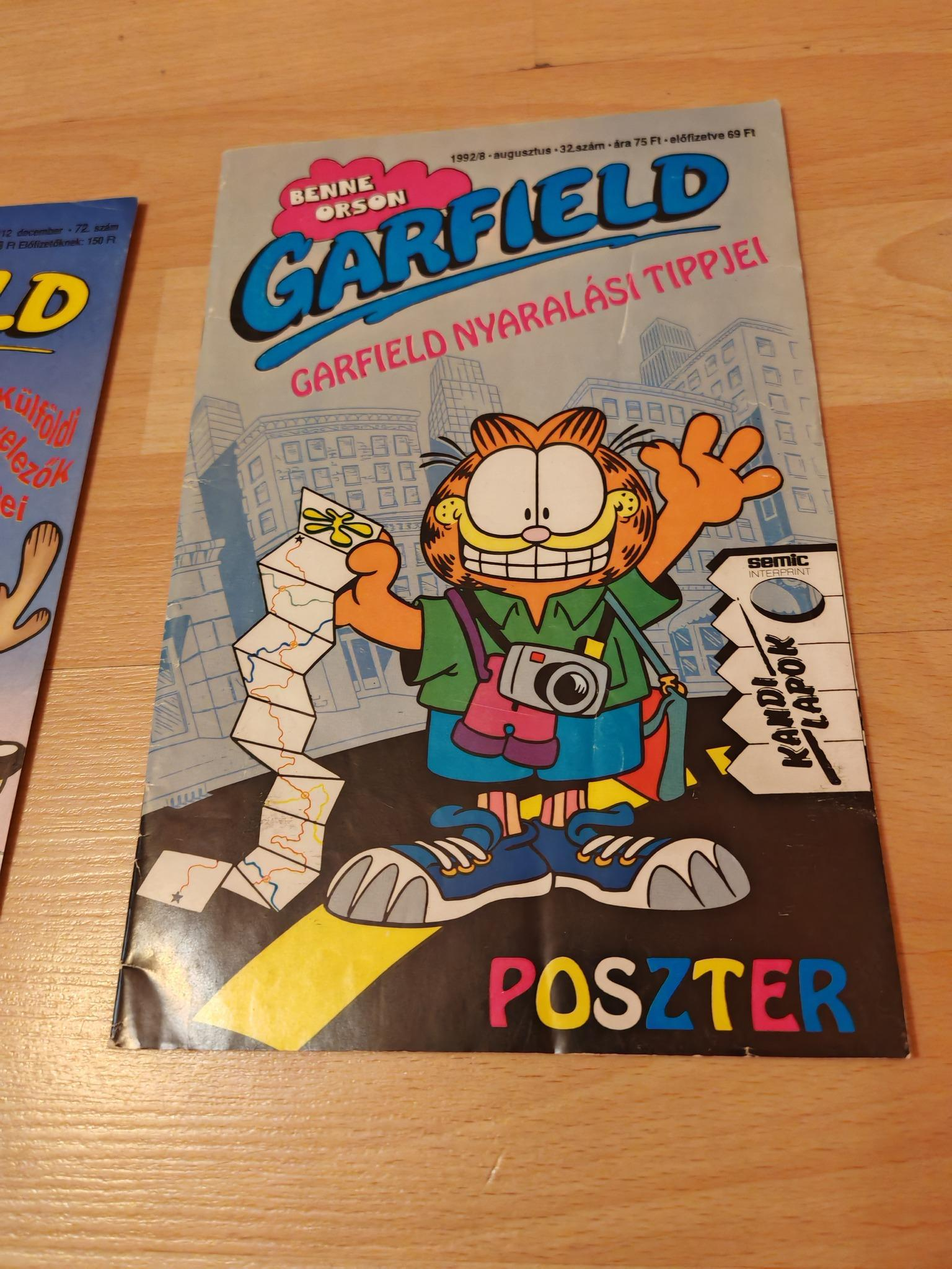comic: (114, 95, 918, 1056)
